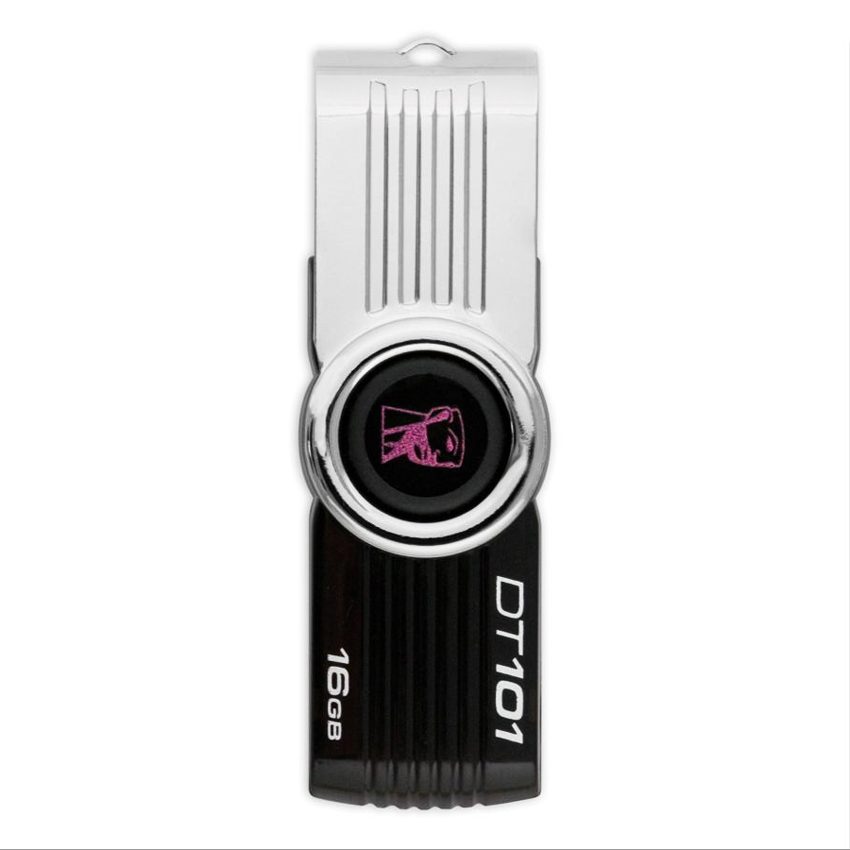Kingston: (376, 380, 475, 484)
